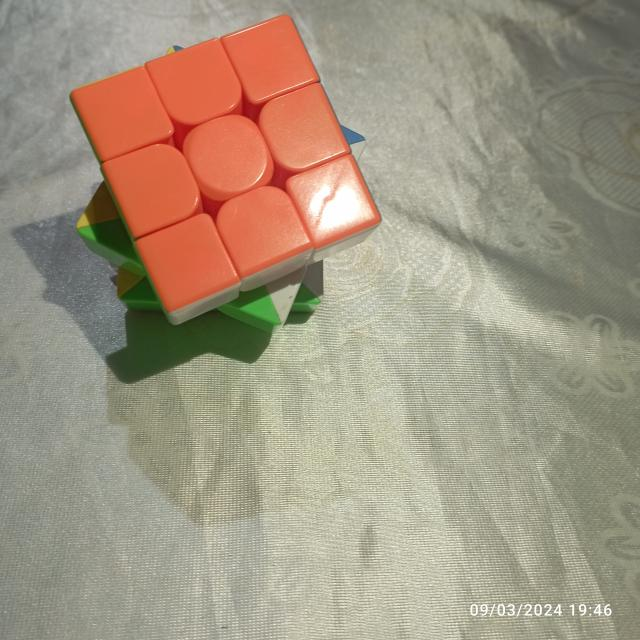Rub: (67, 10, 385, 338)
